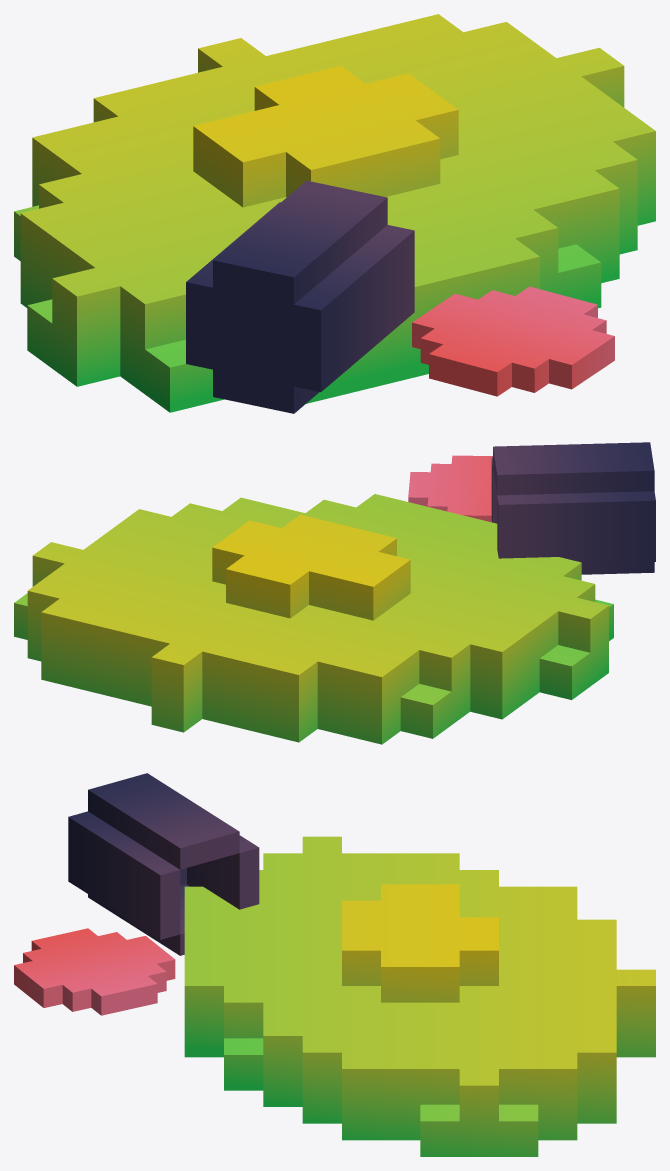
The model's file is Slime_Trap.fbx.
3 views of the same model, one above another, from view 1: azimuth 30°, elevation 25°; view 2: azimuth 150°, elevation 25°; view 3: azimuth 270°, elevation 25° (orthographic). The views are drawn at different scales.
Parts seen in each view (by area): view 1: Slime_Trap; view 2: Slime_Trap; view 3: Slime_Trap.
Part boxes in pixels (box(x1,y1,x2,y2)): Slime_Trap: box(14, 14, 655, 413); Slime_Trap: box(14, 442, 655, 744); Slime_Trap: box(14, 773, 655, 1156).
Size of the model in its own units: 130 by 36.29 by 141.
